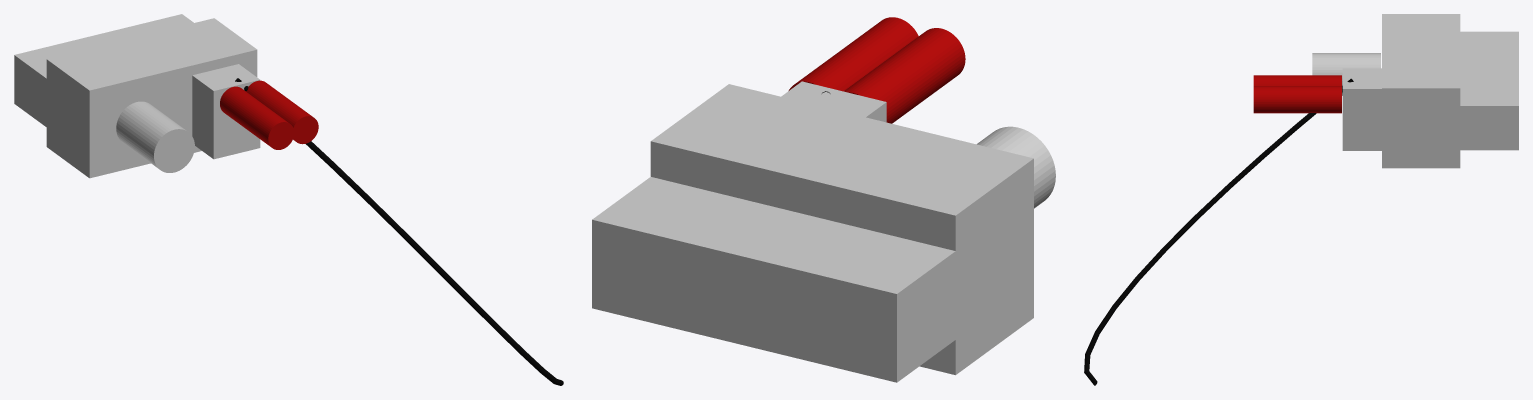
The model's file is hydraulic_unit.obj.
3 views of the same model, side by side, from view 1: azimuth 30°, elevation 25°; view 2: azimuth 150°, elevation 25°; view 3: azimuth 270°, elevation 25° (orthographic). The views are drawn at different scales.
Parts seen in each view (by area): view 1: hydraulic_unit; view 2: hydraulic_unit; view 3: hydraulic_unit.
Boxes of the visible parts, box(x1,y1,x2,y2) form: hydraulic_unit: box(14, 14, 563, 385); hydraulic_unit: box(592, 17, 1055, 382); hydraulic_unit: box(1084, 14, 1518, 385).
Bounding box in the file's own units: 1.69 × 1.31 × 2.22.
